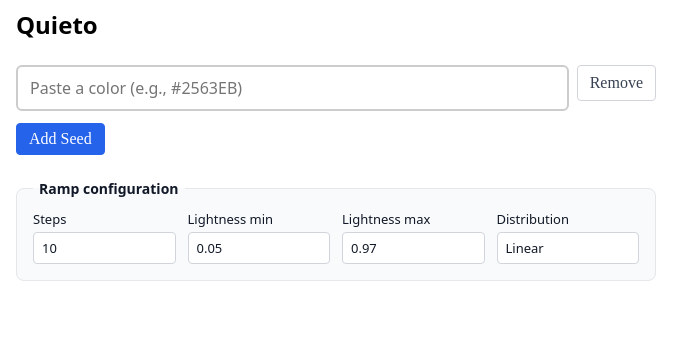
Scenario: App › multiple seeds › Add Seed appends an empty seed row
Click the button "Add Seed".
click(60, 139)  # box [16,123,105,155]
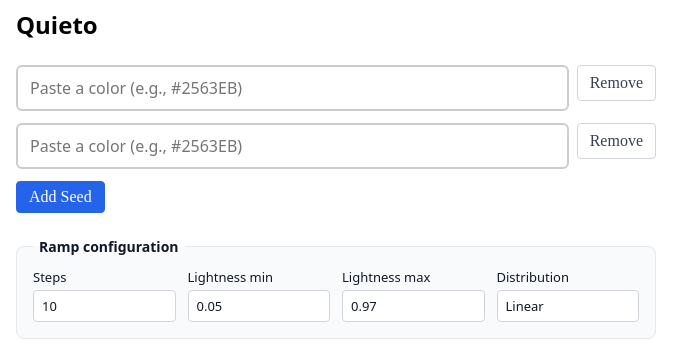
Result: the number of fields with placeholder "Paste a color (e.g., #2563EB)" is 2 at [16,65,569,111]; [16,123,569,169]
